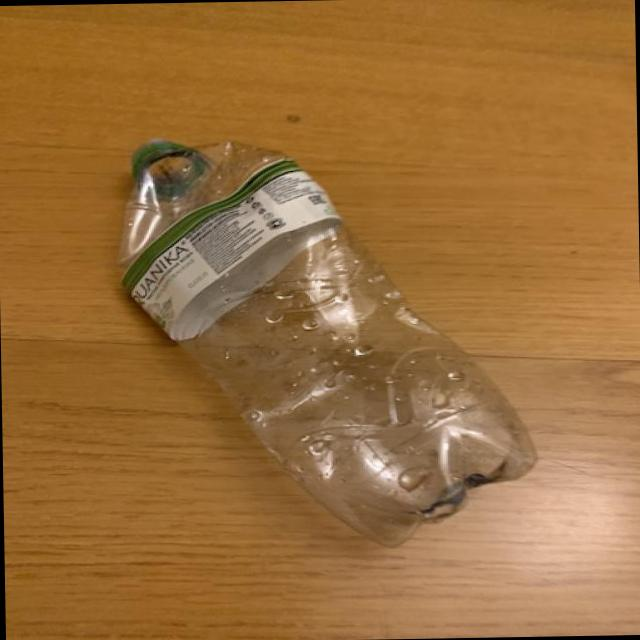plastic_bottle: (115, 130, 542, 552)
